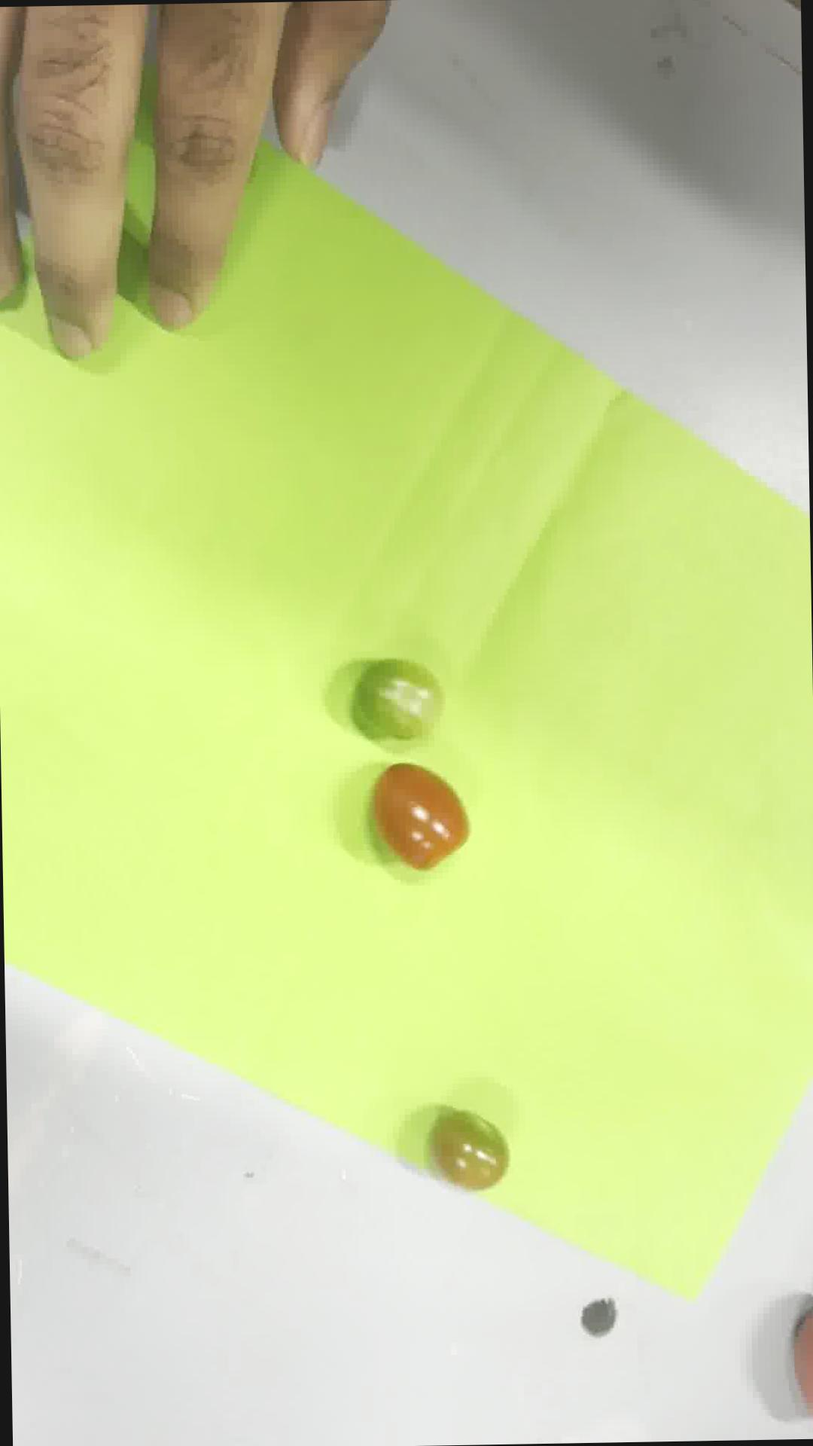green_cherry_tomato: (351, 658, 442, 744)
red_cherry_tomato: (371, 763, 469, 869)
yellow_cherry_tomato: (431, 1110, 508, 1191)
